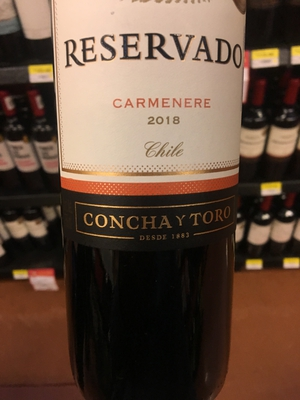reservado carmenere: (51, 1, 245, 391)
